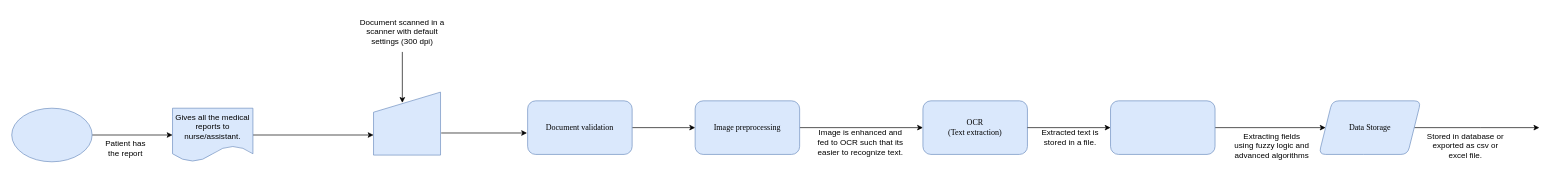
The diagram is 1556 pixels wide and 176 high, and some of its shapes have lost their labels. The centre of each missing label's shape, as x and y in pixels:
Nurse/assistant scans the document.: (x=407, y=123)
Patient arrives at the hospital: (x=51, y=135)
Text Processing: (x=1162, y=127)
